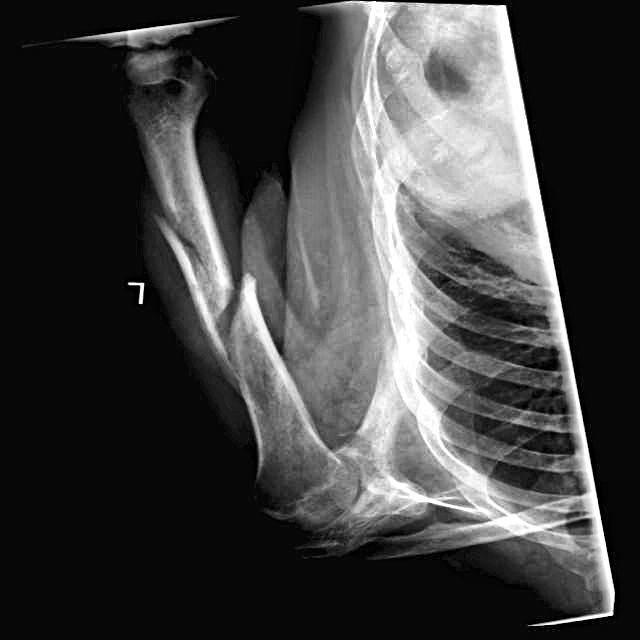Spiral: (149, 200, 284, 367)
